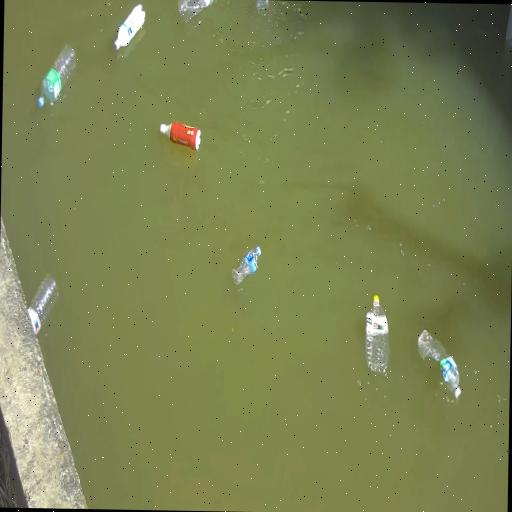plastic: (417, 330, 460, 398), (37, 46, 75, 107), (364, 295, 388, 374), (27, 275, 56, 335), (114, 5, 144, 50), (159, 123, 199, 151), (232, 247, 260, 285), (255, 0, 267, 10)
